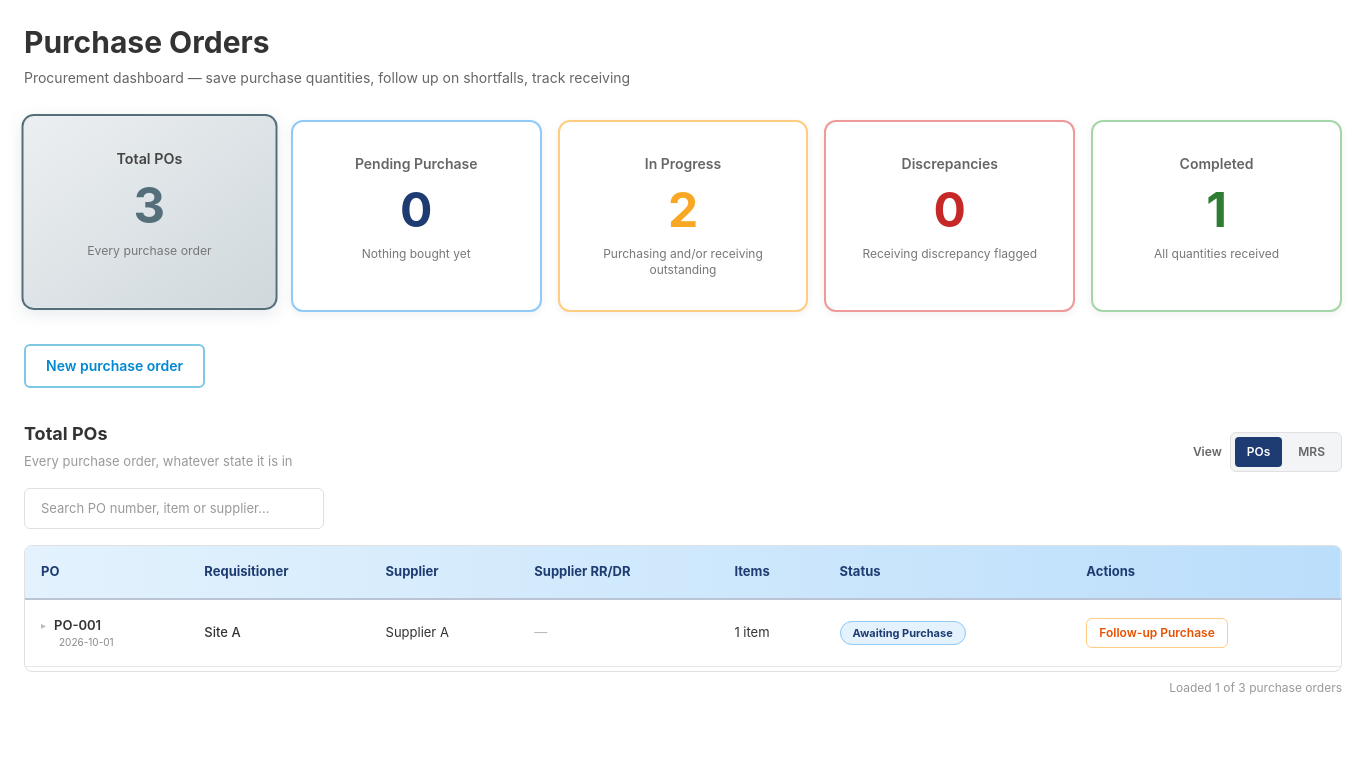
Test: Purchase Orders view toggle › switching to MRS changes the top-level rows and nothing else
The width and height of the screenshot is (1366, 768).
Expected: the row named "Expand to see items and actions" is shown, [25,598,1341,666]
Click the button "MRS" at x=1312, y=452, box [1286,436,1337,466]
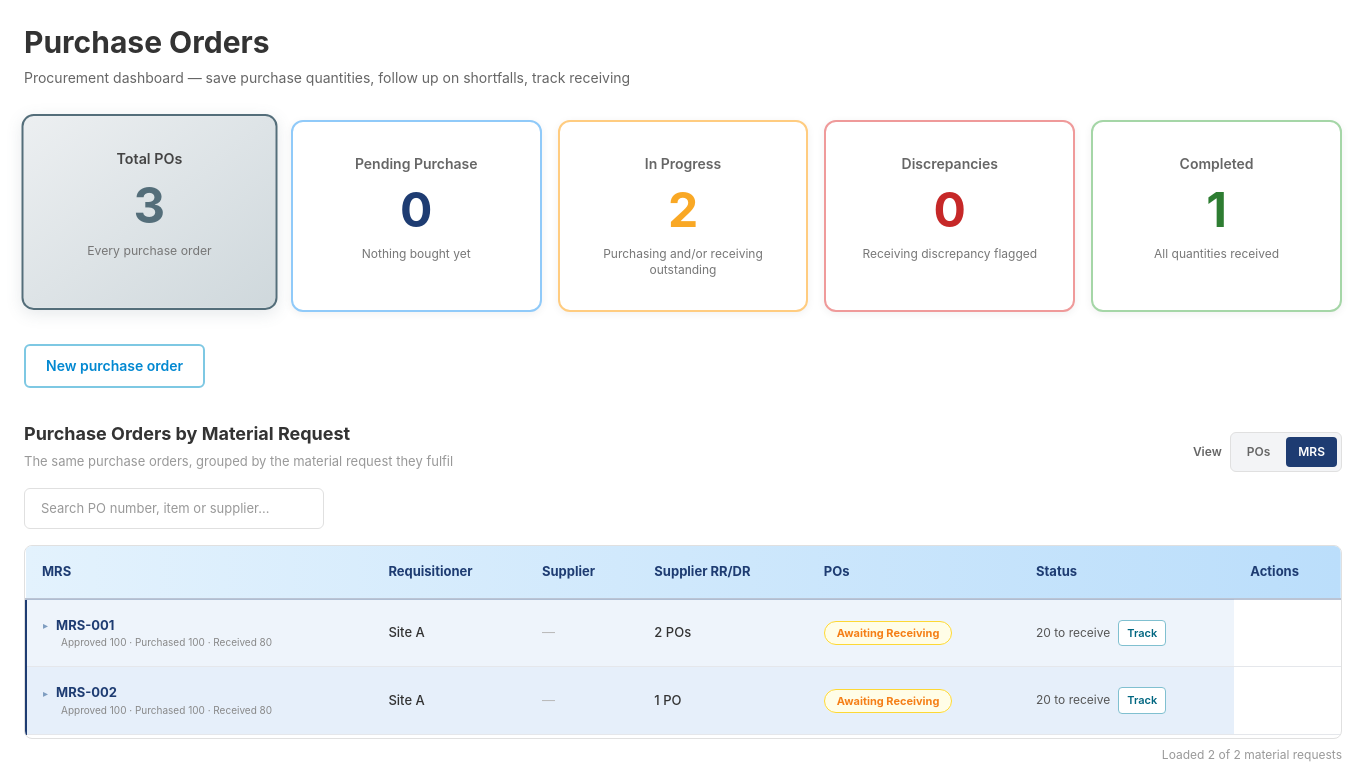
Expected: the text "MRS-001" is shown, [56,616,114,635]
Expected: the row named "Expand to see its purchase orders" shows "MRS-001", [56,616,114,632]
Expected: the text "PO-001" is gone
